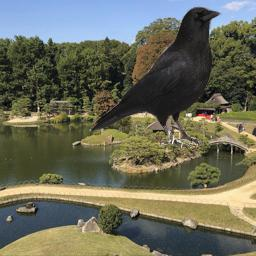Crow: (89, 4, 222, 150)
